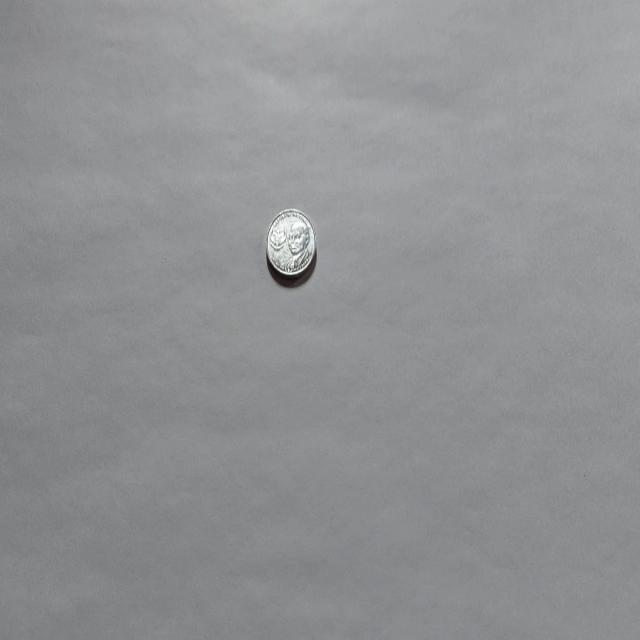lima ratus rupiah: (265, 206, 317, 282)
